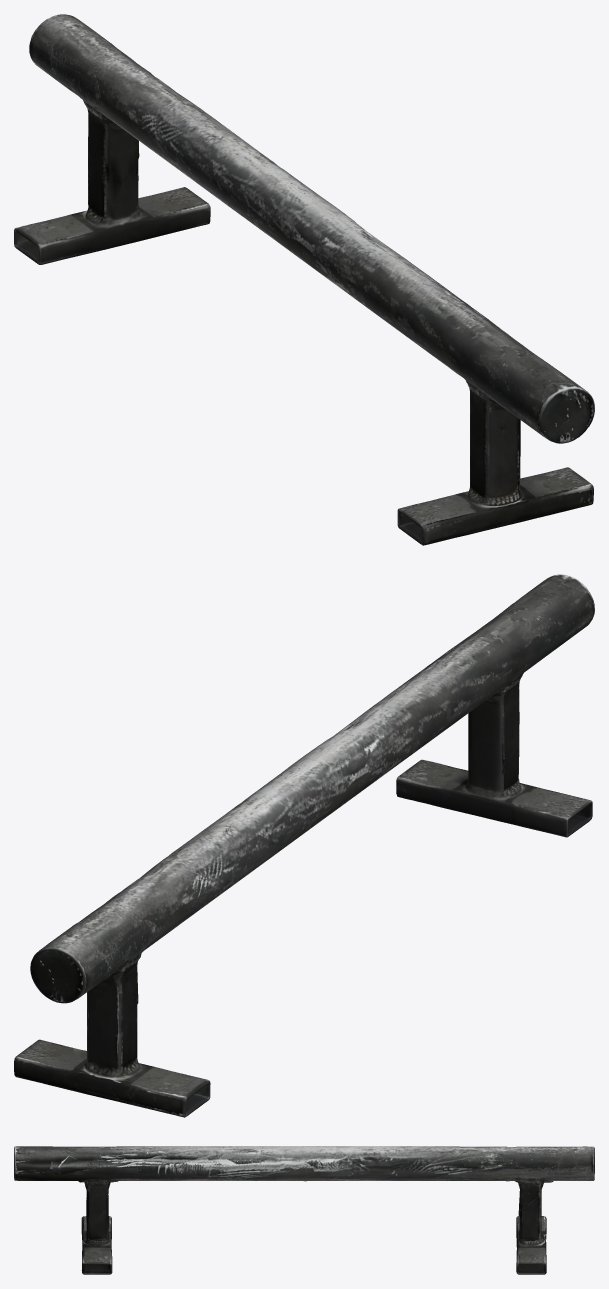
The model's file is CCG_Rail.fbx.
3 views of the same model, one above another, from view 1: azimuth 30°, elevation 25°; view 2: azimuth 150°, elevation 25°; view 3: azimuth 270°, elevation 25° (orthographic). The views are drawn at different scales.
Parts seen in each view (by area): view 1: tripo_node_6483feca-bcb1-4aff-b7a8-c4c0bd39ca21; view 2: tripo_node_6483feca-bcb1-4aff-b7a8-c4c0bd39ca21; view 3: tripo_node_6483feca-bcb1-4aff-b7a8-c4c0bd39ca21.
Part boxes in pixels (x1,y1,x2,y2): tripo_node_6483feca-bcb1-4aff-b7a8-c4c0bd39ca21: [14, 14, 594, 545]; tripo_node_6483feca-bcb1-4aff-b7a8-c4c0bd39ca21: [14, 574, 594, 1117]; tripo_node_6483feca-bcb1-4aff-b7a8-c4c0bd39ca21: [14, 1146, 594, 1274].
Size of the model in its own units: 0.1898 by 0.1922 by 0.9801.
Materials: 1 (1 with a texture image).
